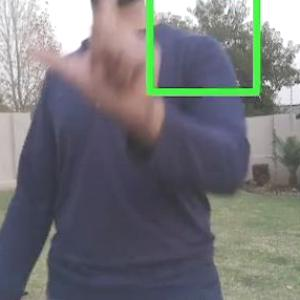land_hand: (30, 0, 172, 144)
